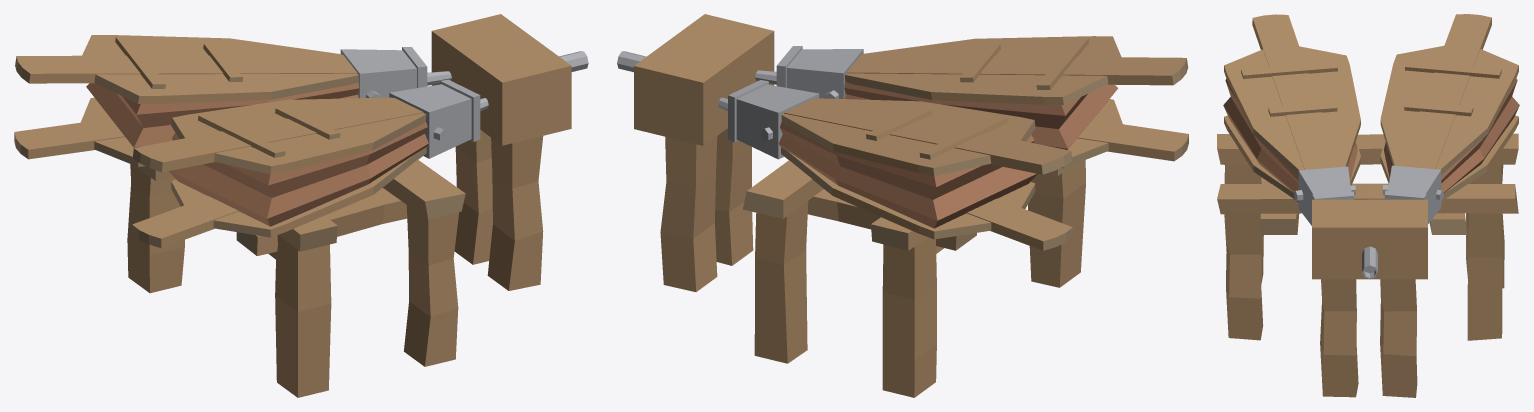
The model's file is bellows.glb.
3 renders of one model, left to right at view 1: azimuth 30°, elevation 25°; view 2: azimuth 150°, elevation 25°; view 3: azimuth 270°, elevation 25°, orthographic. The views are drawn at different scales.
Visible parts, largest first — view 1: Bellow.001; view 2: Bellow.001; view 3: Bellow.001.
Boxes of the visible parts, x1,y1,x2,y2 form: Bellow.001: [14, 14, 588, 397]; Bellow.001: [617, 14, 1188, 397]; Bellow.001: [1217, 14, 1519, 397].
Size of the model in its own units: 1.51 by 0.7383 by 0.9589.
